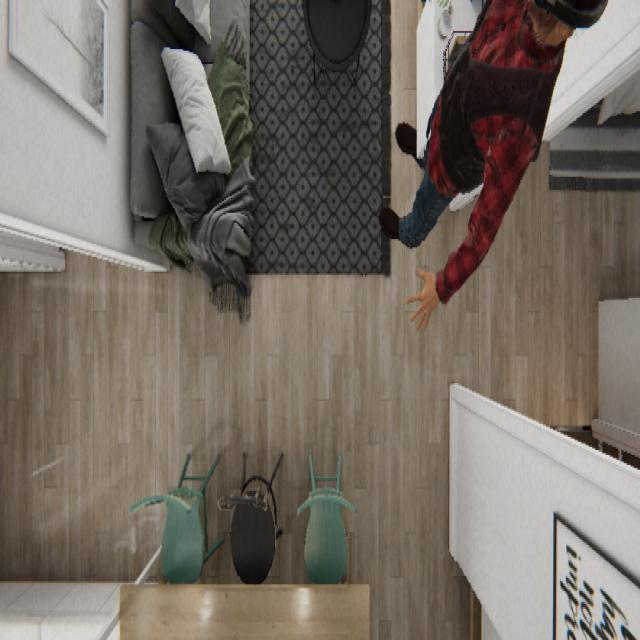Human: (377, 0, 607, 332)
